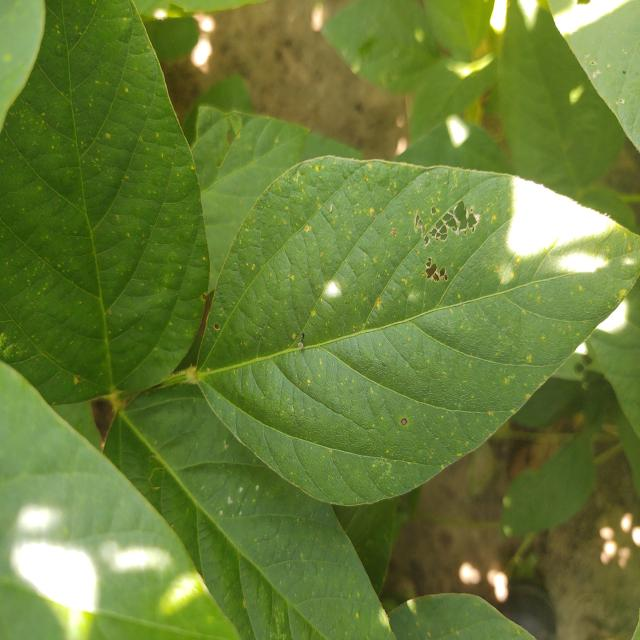Soybean: (0, 0, 640, 640)
downey_mildew: (290, 266, 337, 352), (421, 199, 478, 248), (424, 255, 456, 288), (455, 201, 480, 236), (425, 254, 450, 282), (146, 453, 166, 488), (414, 210, 433, 245), (394, 410, 416, 440), (572, 352, 593, 375), (584, 54, 601, 80), (430, 223, 448, 242), (448, 206, 462, 230), (414, 213, 422, 232), (296, 331, 304, 350), (574, 362, 585, 373), (616, 97, 625, 105), (376, 298, 382, 310), (223, 440, 229, 451), (201, 293, 208, 302), (391, 228, 397, 238), (304, 225, 311, 233), (213, 323, 220, 331), (619, 289, 626, 297), (431, 205, 437, 214), (73, 376, 79, 385), (329, 204, 334, 214), (491, 215, 497, 223), (526, 354, 532, 362), (536, 296, 541, 304), (292, 332, 297, 339)
